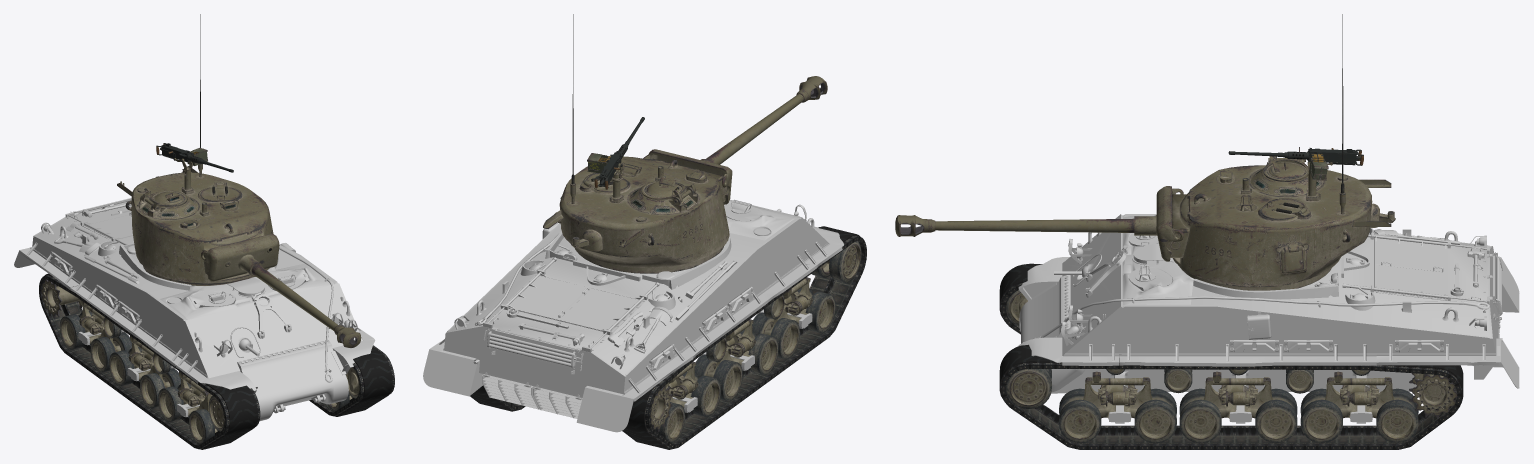
3 renders of one model, left to right at view 1: azimuth 30°, elevation 25°; view 2: azimuth 150°, elevation 25°; view 3: azimuth 270°, elevation 25°, orthographic. The views are drawn at different scales.
Visible parts, largest first — view 1: american\A06_M4A3E8_Sherman\normal\l\Hull.pri~6~5, american\A06_M4A3E8_Sherman\normal\l\Turret_02.pri~6~6, D~\Games\World_of_Tanks_ASIA\res\packages\vehicles_level_9-p, D~\Games\World_of_Tanks_ASIA\res\packages\vehicles_level_6-p, american\A06_M4A3E8_Sherman\normal\l\Gun_06.pri~6~7, D~\Games\World_of_Tanks_ASIA\res\packages\vehicles_level_5-p (×2); view 2: american\A06_M4A3E8_Sherman\normal\l\Hull.pri~6~5, american\A06_M4A3E8_Sherman\normal\l\Turret_02.pri~6~6, D~\Games\World_of_Tanks_ASIA\res\packages\vehicles_level_9-p, D~\Games\World_of_Tanks_ASIA\res\packages\vehicles_level_6-p, american\A06_M4A3E8_Sherman\normal\l\Gun_06.pri~6~7, D~\Games\World_of_Tanks_ASIA\res\packages\vehicles_level_5-p; view 3: american\A06_M4A3E8_Sherman\normal\l\Hull.pri~6~5, D~\Games\World_of_Tanks_ASIA\res\packages\vehicles_level_5-p (×2), american\A06_M4A3E8_Sherman\normal\l\Turret_02.pri~6~6, american\A06_M4A3E8_Sherman\normal\l\Gun_06.pri~6~7, D~\Games\World_of_Tanks_ASIA\res\packages\vehicles_level_6-p.
Boxes of the visible parts, <box> form: american\A06_M4A3E8_Sherman\normal\l\Hull.pri~6~5: <box>14,198,375,421</box>; american\A06_M4A3E8_Sherman\normal\l\Turret_02.pri~6~6: <box>117,14,273,285</box>; D~\Games\World_of_Tanks_ASIA\res\packages\vehicles_level_9-p: <box>41,279,224,443</box>; D~\Games\World_of_Tanks_ASIA\res\packages\vehicles_level_6-p: <box>39,273,260,449</box>; american\A06_M4A3E8_Sherman\normal\l\Gun_06.pri~6~7: <box>201,234,361,347</box>; D~\Games\World_of_Tanks_ASIA\res\packages\vehicles_level_5-p (×2): <box>309,345,394,416</box>; american\A06_M4A3E8_Sherman\normal\l\Hull.pri~6~5: <box>423,199,843,432</box>; american\A06_M4A3E8_Sherman\normal\l\Turret_02.pri~6~6: <box>543,14,729,273</box>; D~\Games\World_of_Tanks_ASIA\res\packages\vehicles_level_9-p: <box>650,241,861,442</box>; D~\Games\World_of_Tanks_ASIA\res\packages\vehicles_level_6-p: <box>622,226,866,449</box>; american\A06_M4A3E8_Sherman\normal\l\Gun_06.pri~6~7: <box>643,76,827,204</box>; D~\Games\World_of_Tanks_ASIA\res\packages\vehicles_level_5-p: <box>470,360,525,411</box>; american\A06_M4A3E8_Sherman\normal\l\Hull.pri~6~5: <box>1018,214,1519,423</box>; D~\Games\World_of_Tanks_ASIA\res\packages\vehicles_level_5-p (×2): <box>999,344,1463,449</box>; american\A06_M4A3E8_Sherman\normal\l\Turret_02.pri~6~6: <box>1166,14,1395,290</box>; american\A06_M4A3E8_Sherman\normal\l\Gun_06.pri~6~7: <box>895,186,1183,261</box>; D~\Games\World_of_Tanks_ASIA\res\packages\vehicles_level_6-p: <box>999,263,1042,334</box>.
Bounding box in the file's own units: 3.01 × 5.37 × 7.51.
